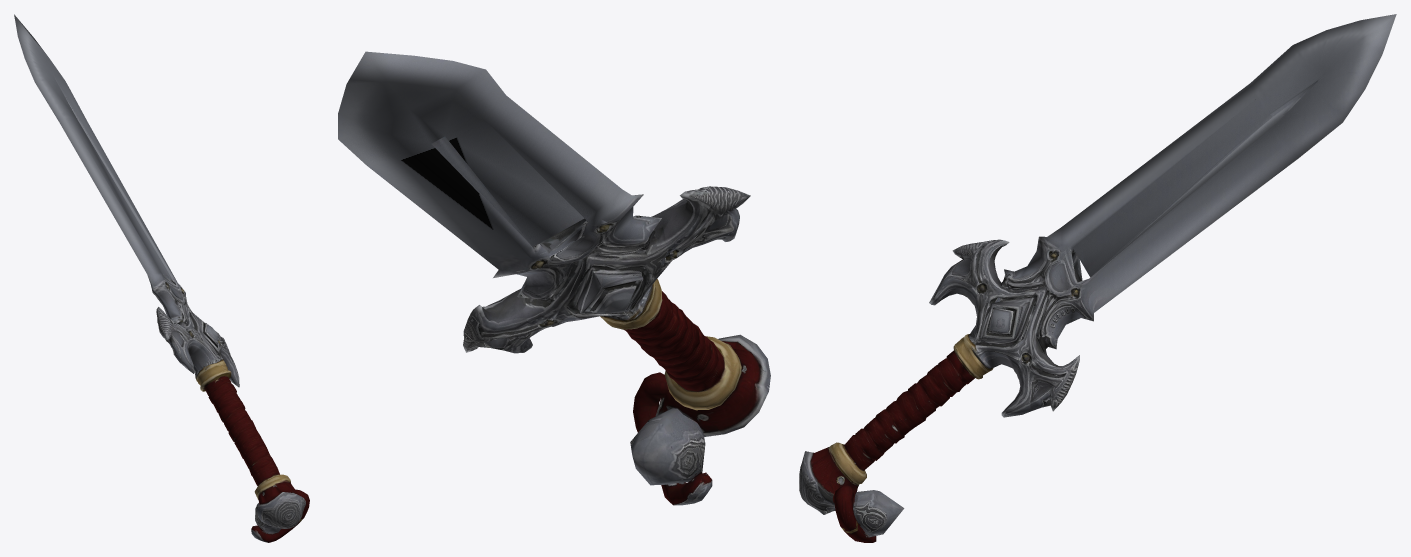
Rendered from greatsword.glb.
3 views of the same model, side by side, from view 1: azimuth 30°, elevation 25°; view 2: azimuth 150°, elevation 25°; view 3: azimuth 270°, elevation 25° (orthographic). The views are drawn at different scales.
Visible parts, largest first — view 1: tripo_node_1c18e2b3-a710-46c8-ba21-09b86aed87fb; view 2: tripo_node_1c18e2b3-a710-46c8-ba21-09b86aed87fb; view 3: tripo_node_1c18e2b3-a710-46c8-ba21-09b86aed87fb.
Boxes of the visible parts, bbox=[...] form: tripo_node_1c18e2b3-a710-46c8-ba21-09b86aed87fb: bbox=[14, 14, 309, 542]; tripo_node_1c18e2b3-a710-46c8-ba21-09b86aed87fb: bbox=[338, 51, 770, 505]; tripo_node_1c18e2b3-a710-46c8-ba21-09b86aed87fb: bbox=[799, 14, 1396, 542].
Size of the model in its own units: 0.2559 by 0.9199 by 0.998.
1 material, 1 textured.
